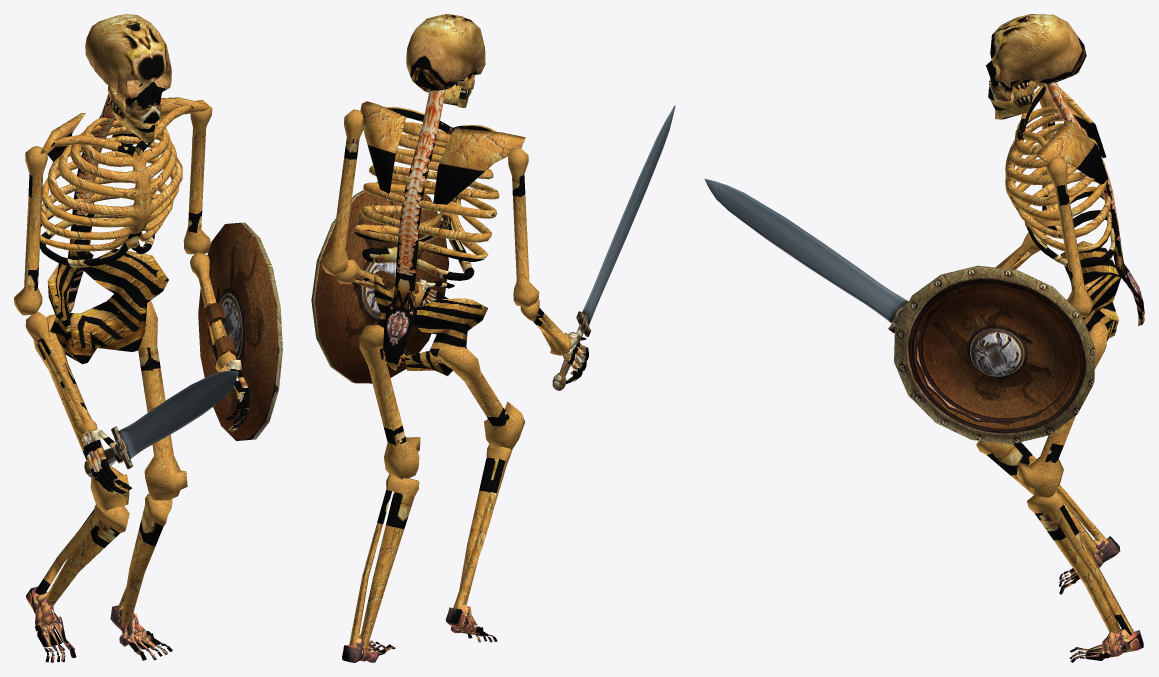
The model's file is Skeleton_000012.obj.
3 views of the same model, side by side, from view 1: azimuth 30°, elevation 25°; view 2: azimuth 150°, elevation 25°; view 3: azimuth 270°, elevation 25° (orthographic). The views are drawn at different scales.
Visible parts, largest first — view 1: Costillar, Shield_Shield.001, Coxis, Skull, Tibia, Femur, Humero, Sword, Radio, Feet, Hands, Omoplato (+1 smaller); view 2: Costillar, Shield_Shield.001, Tibia, Femur, Omoplato, Humero, Skull, Coxis, Sword, Radio, Feet, Hands (+1 smaller); view 3: Shield_Shield.001, Costillar, Sword, Tibia, Skull, Humero, Omoplato, Femur, Coxis, Feet, Mandibula, Radio.
Part boxes in pixels (x1,y1,x2,y2): Costillar: (40,90,193,312); Shield_Shield.001: (198,222,282,440); Coxis: (47,248,168,364); Skull: (85,14,171,123); Tibia: (35,493,172,625); Femur: (33,301,187,511); Humero: (14,99,212,315); Sword: (84,371,238,478); Radio: (25,252,236,436); Feet: (26,586,172,662); Hands: (81,359,249,496); Omoplato: (40,97,210,161); Costillar: (354,89,499,370); Shield_Shield.001: (311,181,448,383); Tibia: (349,444,512,648); Femur: (359,325,524,479); Omoplato: (360,101,525,204); Humero: (321,109,539,307); Skull: (406,14,485,92); Coxis: (374,275,487,376); Sword: (552,105,675,390); Radio: (336,259,571,355); Feet: (342,604,497,662); Hands: (414,279,588,383); Shield_Shield.001: (894,265,1095,444); Costillar: (1005,82,1144,326); Sword: (704,178,908,333); Tibia: (976,441,1133,635); Skull: (985,14,1086,101); Humero: (1038,91,1093,317); Omoplato: (1036,82,1107,184); Femur: (1016,322,1107,497); Coxis: (1060,241,1120,341); Feet: (1059,536,1143,662); Mandibula: (990,80,1037,119); Radio: (995,232,1047,269).
Size of the model in its own units: 2.9 by 8.55 by 5.5.
5 materials, 5 textured.
